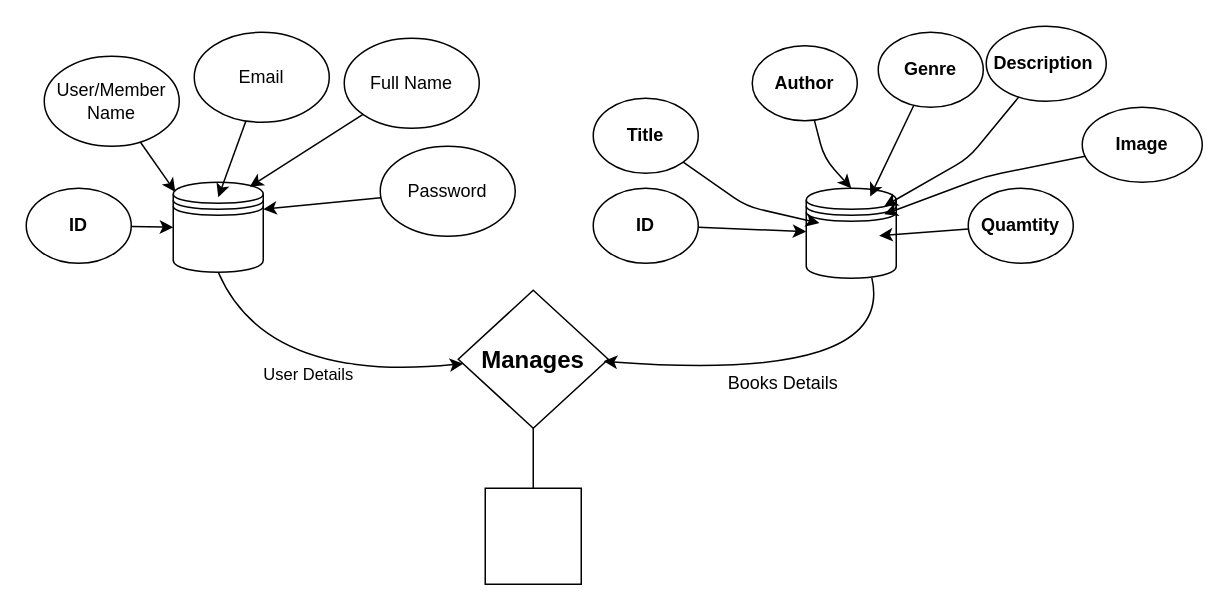
The diagram is 1229 pixels wide and 611 high, and some of its shapes have lost their labels. Each missing label, with the centre of its shape:
Books DB: pixel 850 232
UI: pixel 532 535
User DB: pixel 217 226
